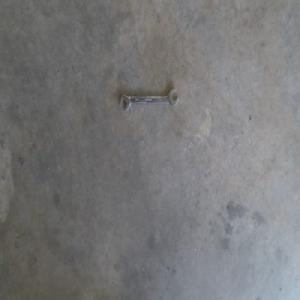Wrench: (120, 88, 177, 110)
